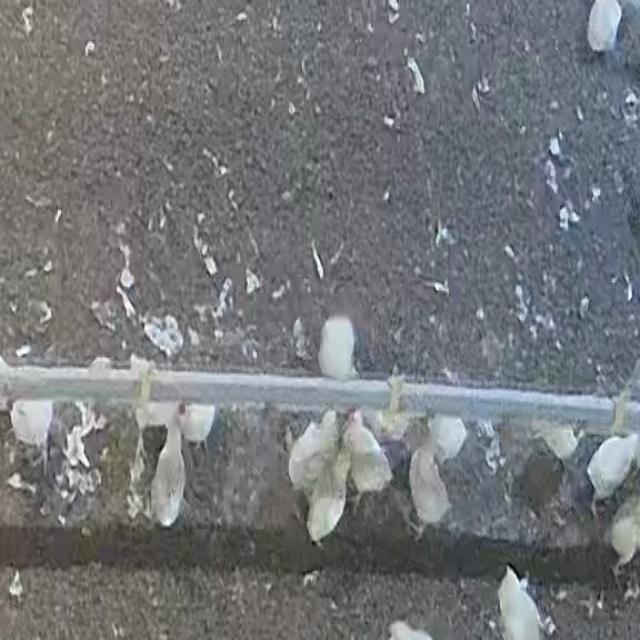chicken: (150, 410, 187, 525), (343, 408, 392, 494), (408, 440, 451, 530), (584, 432, 639, 502), (10, 363, 54, 449), (306, 454, 348, 544), (286, 411, 332, 492), (496, 566, 546, 640), (173, 368, 218, 445), (316, 314, 358, 382), (609, 499, 640, 569), (427, 413, 469, 464), (585, 0, 622, 51), (543, 426, 579, 462), (391, 620, 437, 640)
